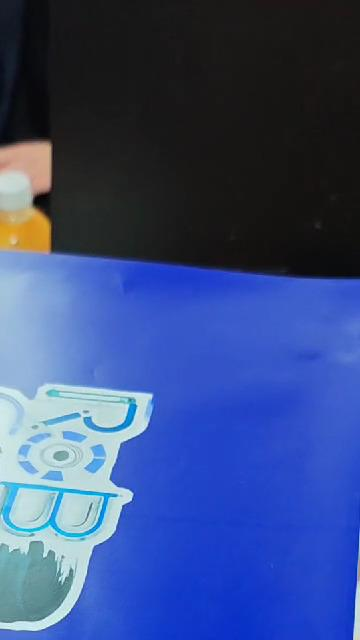B_R1: (0, 249, 141, 640)
